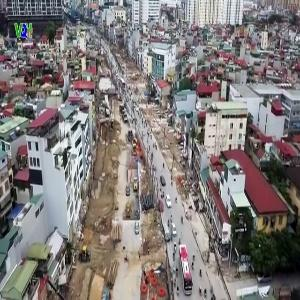drone: (139, 246, 186, 293)
